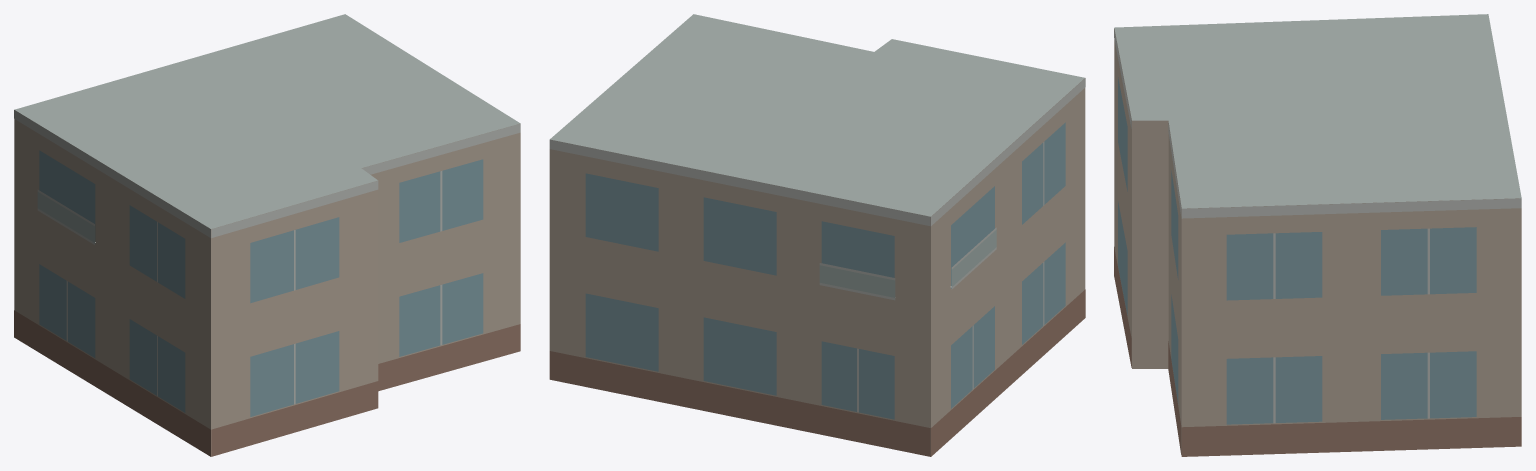
Rendered from survey-upis-32940675.glb.
3 renders of one model, left to right at view 1: azimuth 30°, elevation 25°; view 2: azimuth 150°, elevation 25°; view 3: azimuth 270°, elevation 25°, orthographic. The views are drawn at different scales.
Parts seen in each view (by area): view 1: survey-upis-32940675.tmp; view 2: survey-upis-32940675.tmp; view 3: survey-upis-32940675.tmp.
Boxes of the visible parts, bbox=[...] form: survey-upis-32940675.tmp: bbox=[14, 14, 520, 456]; survey-upis-32940675.tmp: bbox=[549, 14, 1085, 456]; survey-upis-32940675.tmp: bbox=[1114, 14, 1521, 456].
Size of the model in its own units: 10.26 by 6.1 by 9.09.
